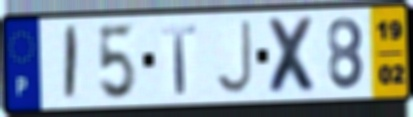5: (96, 22, 139, 101)
8: (326, 16, 365, 91)
I: (62, 23, 81, 104)
J: (212, 18, 254, 97)
T: (160, 22, 199, 96)
X: (264, 15, 322, 96)
